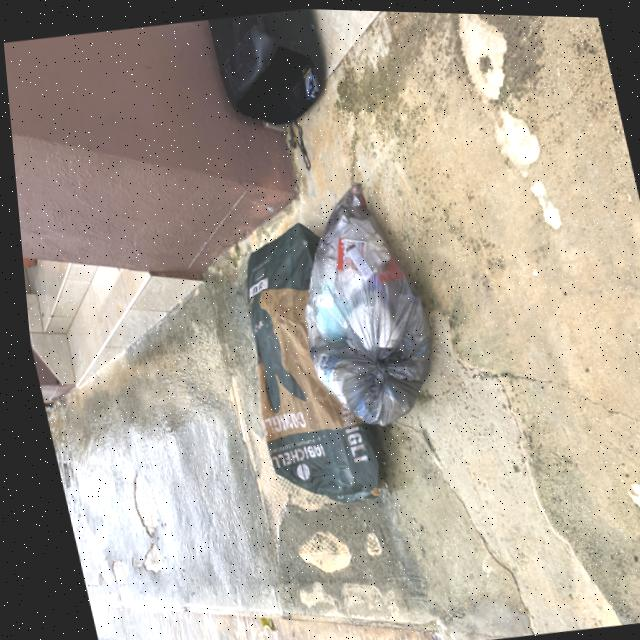Mixed Waste -Black Bag-: (270, 171, 445, 432)
Other: (216, 217, 378, 508)
